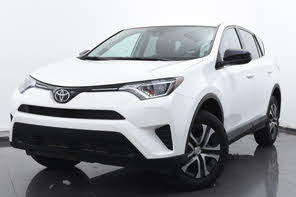Toyota RAV-4: (8, 21, 283, 191)
